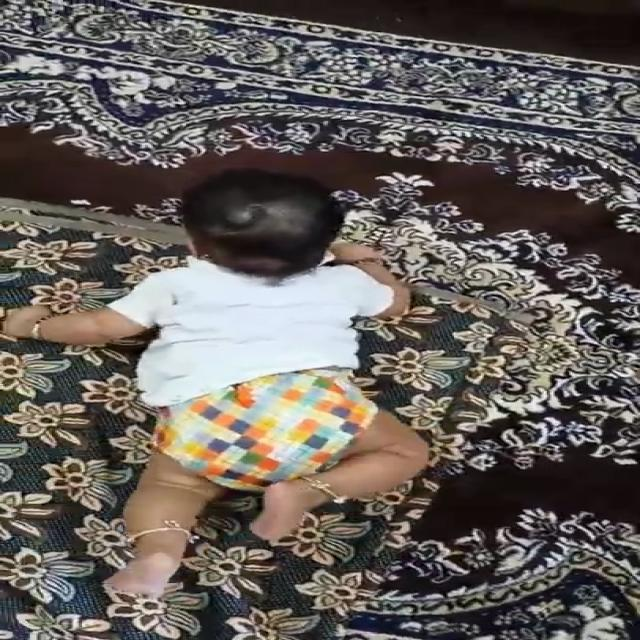baby: (0, 166, 445, 606)
